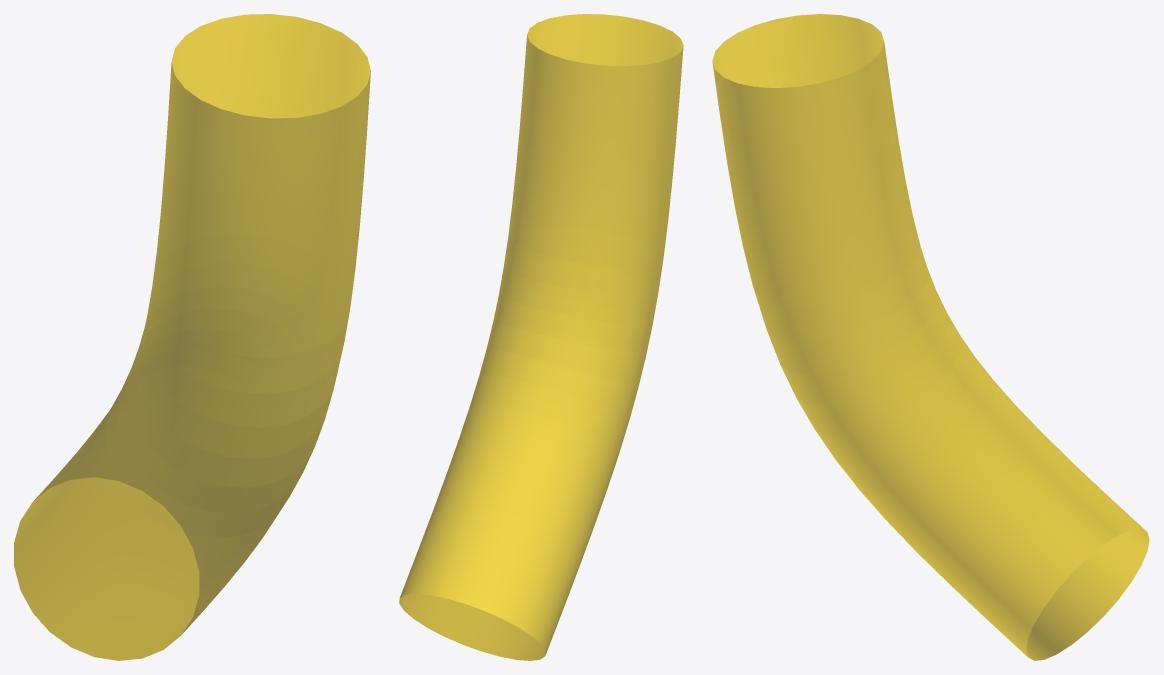
The model's file is Event_402970704_track_51.fbx.
3 renders of one model, left to right at view 1: azimuth 30°, elevation 25°; view 2: azimuth 150°, elevation 25°; view 3: azimuth 270°, elevation 25°, orthographic. The views are drawn at different scales.
Visible parts, largest first — view 1: Model; view 2: Model; view 3: Model.
Part boxes in pixels (x1,y1,x2,y2): Model: (14, 14, 370, 660); Model: (399, 14, 683, 660); Model: (712, 14, 1149, 660).
Size of the model in its own units: 0.0407 by 0.1548 by 0.101.
